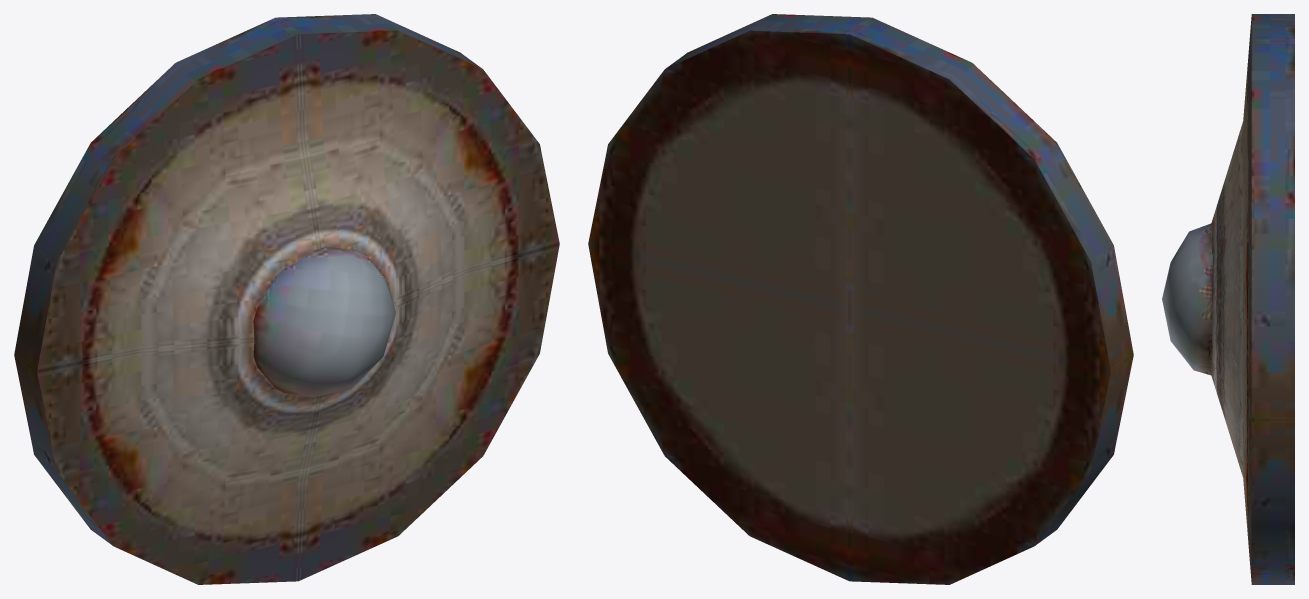
File: luopan-2.FBX
3 views of the same model, side by side, from view 1: azimuth 30°, elevation 25°; view 2: azimuth 150°, elevation 25°; view 3: azimuth 270°, elevation 25° (orthographic). The views are drawn at different scales.
Visible parts, largest first — view 1: luopan-2; view 2: luopan-2; view 3: luopan-2.
Part boxes in pixels (x1,y1,x2,y2): luopan-2: [14, 14, 559, 584]; luopan-2: [588, 14, 1133, 584]; luopan-2: [1162, 14, 1294, 584].
Size of the model in its own units: 20.22 by 20.22 by 4.7.
1 material, 1 textured.
